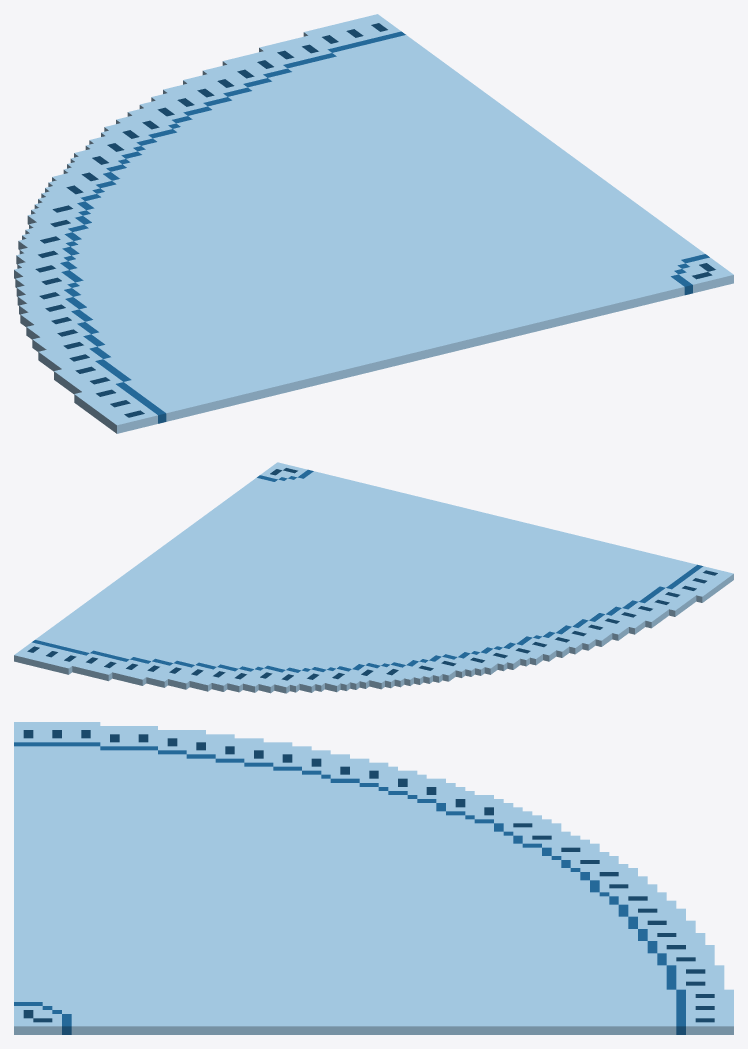
Rendered from 90_0_right-0.obj.
3 views of the same model, one above another, from view 1: azimuth 30°, elevation 25°; view 2: azimuth 150°, elevation 25°; view 3: azimuth 270°, elevation 25° (orthographic). The views are drawn at different scales.
Visible parts, largest first — view 1: 90_0_right-0; view 2: 90_0_right-0; view 3: 90_0_right-0.
Part boxes in pixels (x1,y1,x2,y2): 90_0_right-0: (14, 14, 733, 433); 90_0_right-0: (14, 462, 733, 693); 90_0_right-0: (14, 722, 733, 1034).
Bounding box in the file's own units: 75 × 1 × 75.
1 material, 1 textured.
